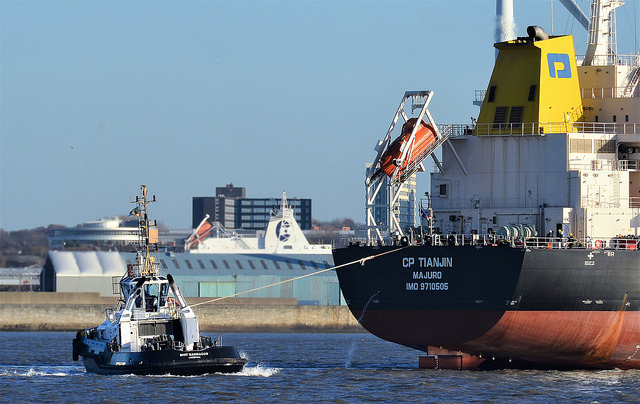tug_boat: (85, 199, 249, 379)
